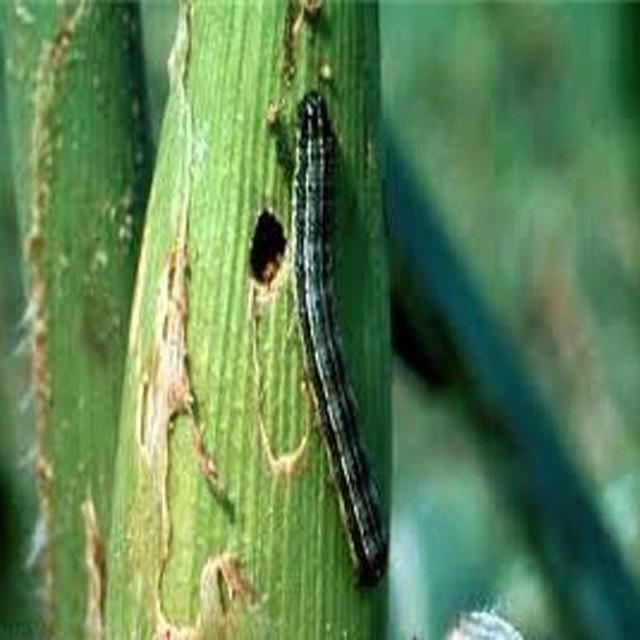gusano_cogollero: (293, 95, 395, 587)
